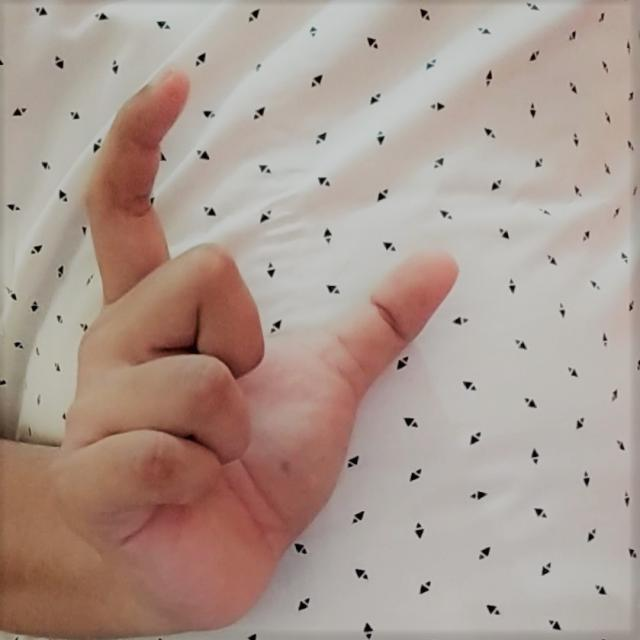U: (73, 48, 469, 631)
